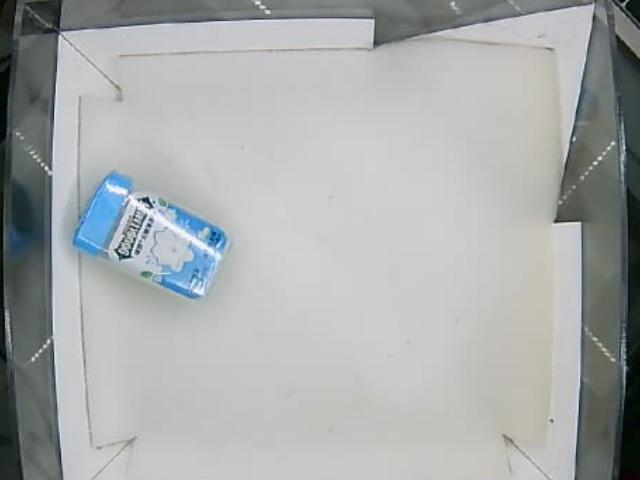Bottle: (72, 172, 232, 303)
